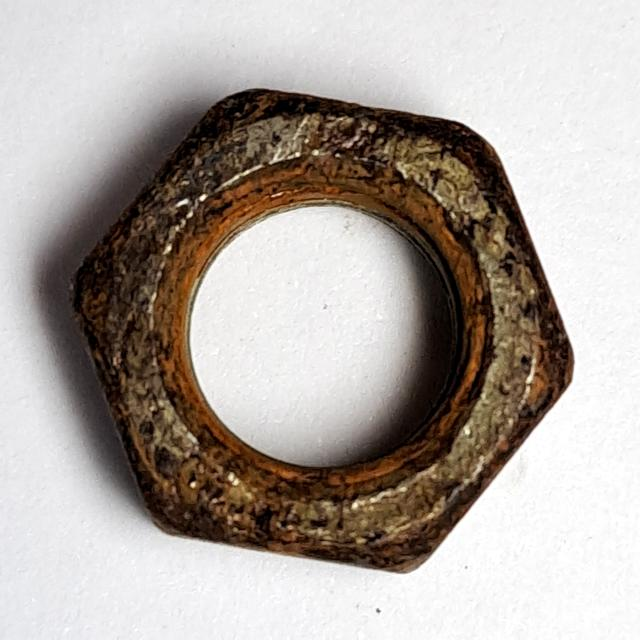Rust: (49, 68, 586, 590)
